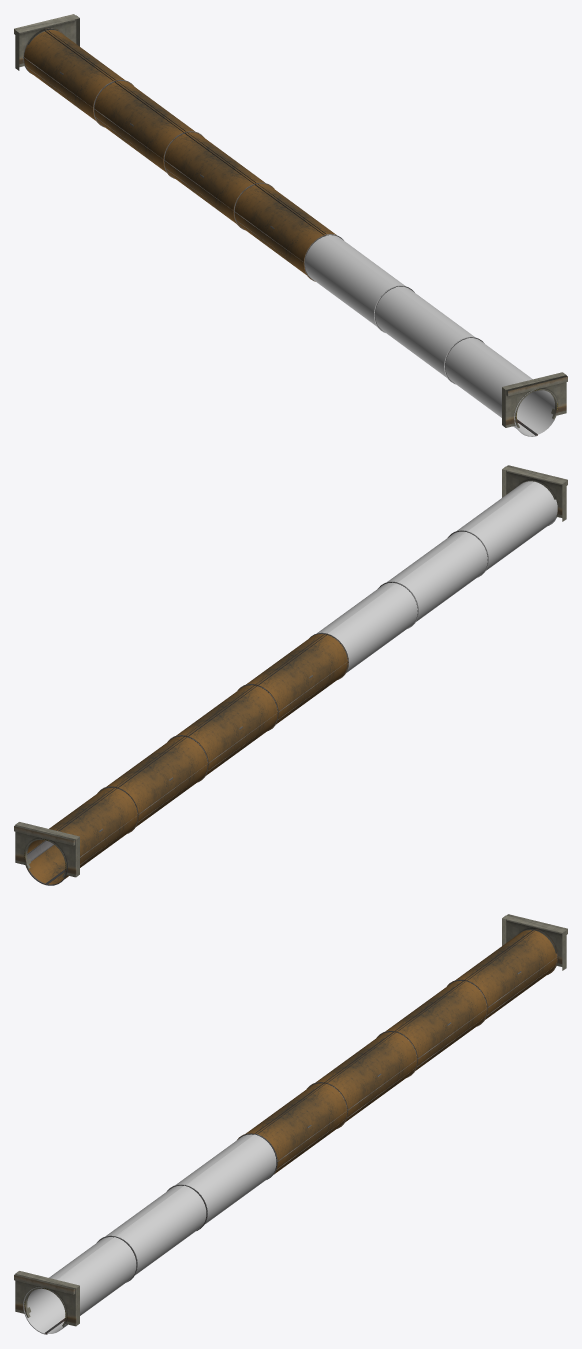
File: Tun_RoundRustyLong_Baked.fbx
The picture shows the model from 3 angles, top to bottom: view 1: azimuth 30°, elevation 25°; view 2: azimuth 150°, elevation 25°; view 3: azimuth 330°, elevation 25°; orthographic projection.
Visible parts, largest first — view 1: Baked Mesh, Baked Mesh 8, Baked Mesh 9, Baked Mesh 2, Baked Mesh 3; view 2: Baked Mesh, Baked Mesh 8, Baked Mesh 9, Baked Mesh 2, Baked Mesh 7, Baked Mesh 3; view 3: Baked Mesh, Baked Mesh 8, Baked Mesh 9, Baked Mesh 2, Baked Mesh 7.
Boxes of the visible parts, x1,y1,x2,y2 form: Baked Mesh: (24, 28, 336, 281); Baked Mesh 8: (305, 234, 554, 436); Baked Mesh 9: (14, 14, 567, 427); Baked Mesh 2: (44, 30, 537, 435); Baked Mesh 3: (23, 36, 484, 383); Baked Mesh: (26, 633, 348, 884); Baked Mesh 8: (311, 481, 557, 672); Baked Mesh 9: (14, 465, 567, 877); Baked Mesh 2: (46, 634, 327, 884); Baked Mesh 7: (27, 662, 346, 864); Baked Mesh 3: (25, 531, 487, 885); Baked Mesh: (237, 929, 558, 1174); Baked Mesh 8: (23, 1133, 277, 1334); Baked Mesh 9: (14, 914, 567, 1326); Baked Mesh 2: (44, 929, 535, 1334); Baked Mesh 7: (276, 957, 556, 1169).
Bounding box in the file's own units: 1556 × 1287 × 21519.
